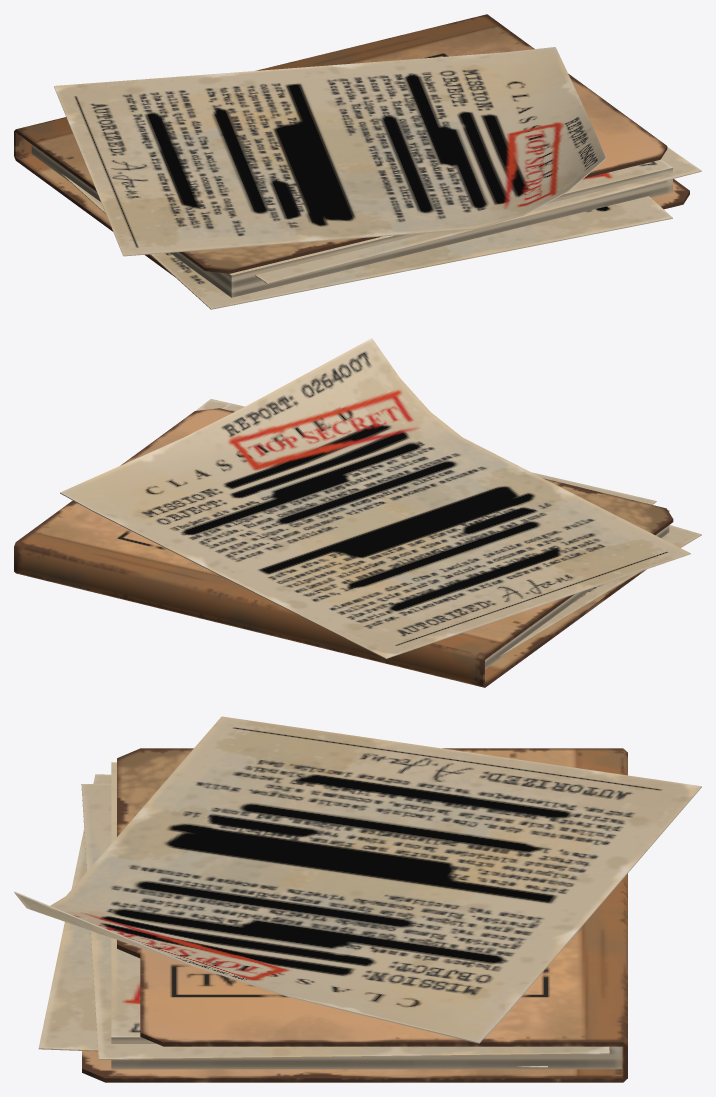
The model's file is fileFolder02_C.fbx.
The picture shows the model from 3 angles, top to bottom: view 1: azimuth 30°, elevation 25°; view 2: azimuth 150°, elevation 25°; view 3: azimuth 270°, elevation 25°; orthographic projection. The views are drawn at different scales.
Parts seen in each view (by area): view 1: fileFolder02_C; view 2: fileFolder02_C; view 3: fileFolder02_C.
Boxes of the visible parts, bbox=[...] form: fileFolder02_C: bbox=[14, 14, 701, 309]; fileFolder02_C: bbox=[14, 338, 701, 687]; fileFolder02_C: bbox=[14, 716, 701, 1082].
Bounding box in the file's own units: 33.7 × 5.51 × 29.48.
